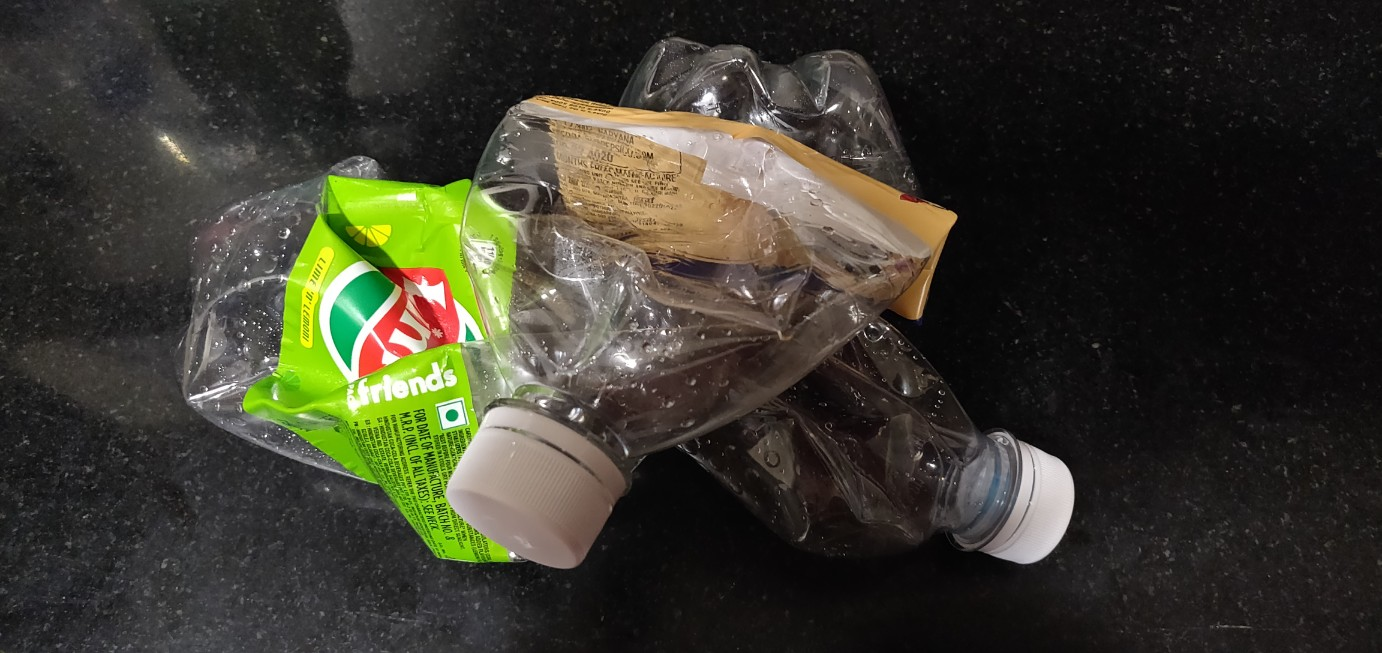Electronics: (138, 126, 1130, 601), (404, 2, 987, 608)
